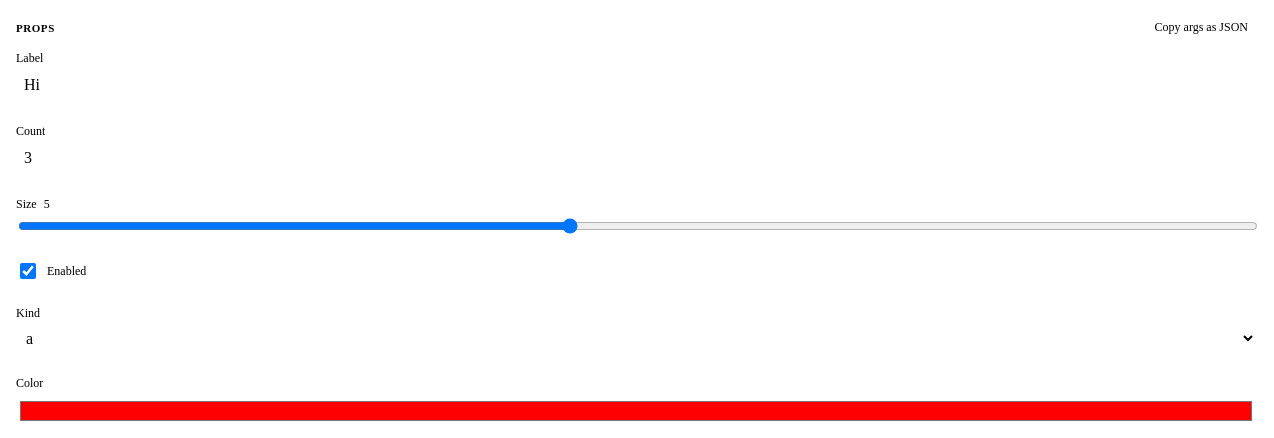
Test: PropsPanel: copy args as JSON › reports "Copy failed" when the Clipboard API rejects
The width and height of the screenshot is (1274, 438).
Click the button "Copy args as JSON".
click(1201, 28)  # box [1146, 16, 1256, 39]
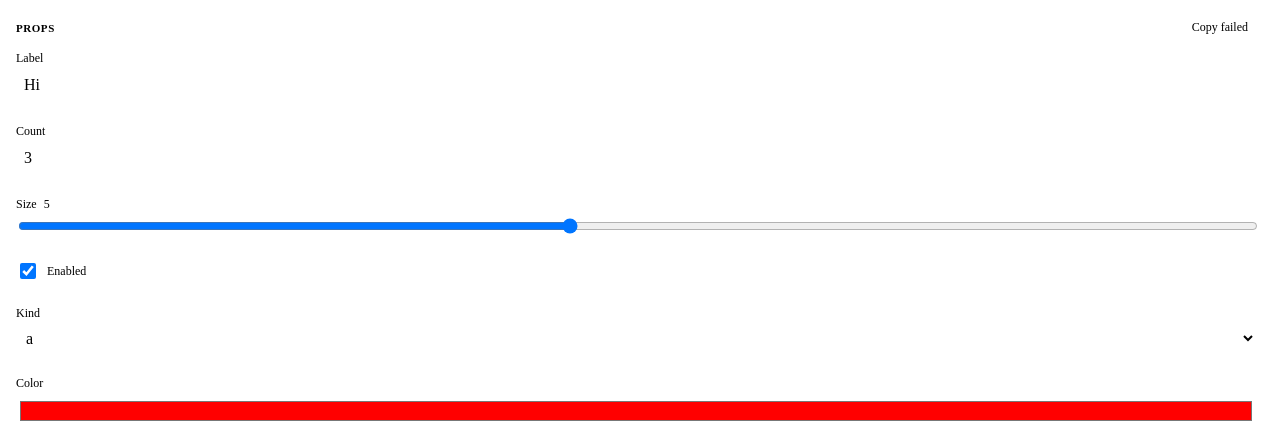
Check: the button "Copy failed" is shown, box [1184, 16, 1256, 39]
